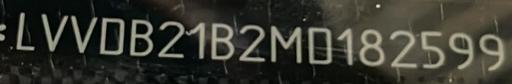letter: (268, 23, 304, 64), (38, 11, 68, 53), (447, 29, 475, 71), (157, 19, 187, 58), (388, 28, 418, 67), (70, 15, 98, 56), (236, 23, 266, 61), (98, 15, 126, 55), (306, 25, 334, 65), (419, 29, 447, 69), (477, 30, 505, 70), (358, 26, 386, 65), (128, 18, 154, 57), (210, 21, 236, 60), (14, 10, 36, 50), (336, 25, 356, 64), (188, 21, 206, 60)
